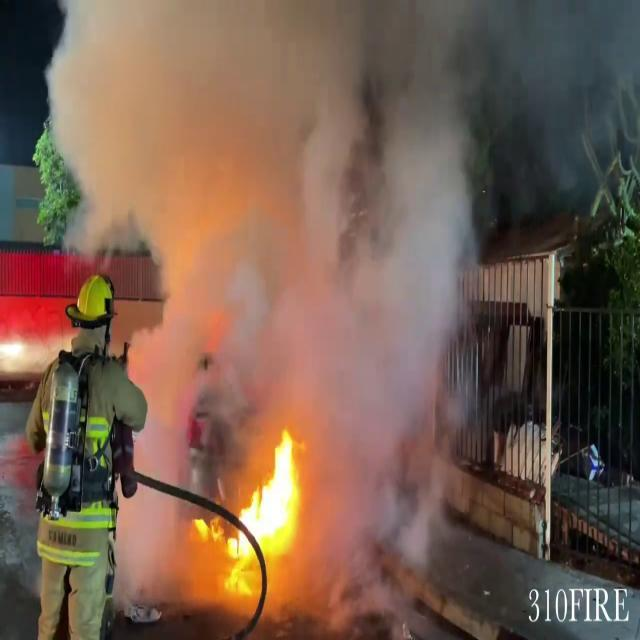Fire: (226, 422, 306, 558)
Smoke: (38, 1, 626, 554)
